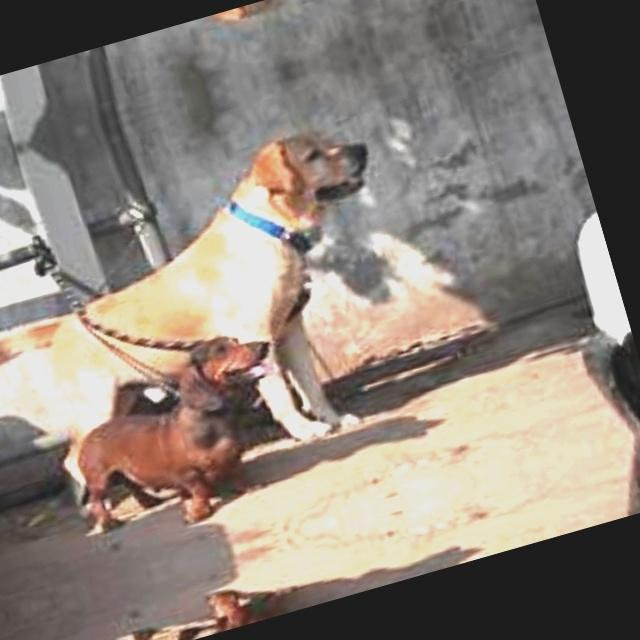dog: (0, 113, 437, 404), (56, 329, 312, 550), (0, 0, 350, 101), (121, 559, 342, 640)
